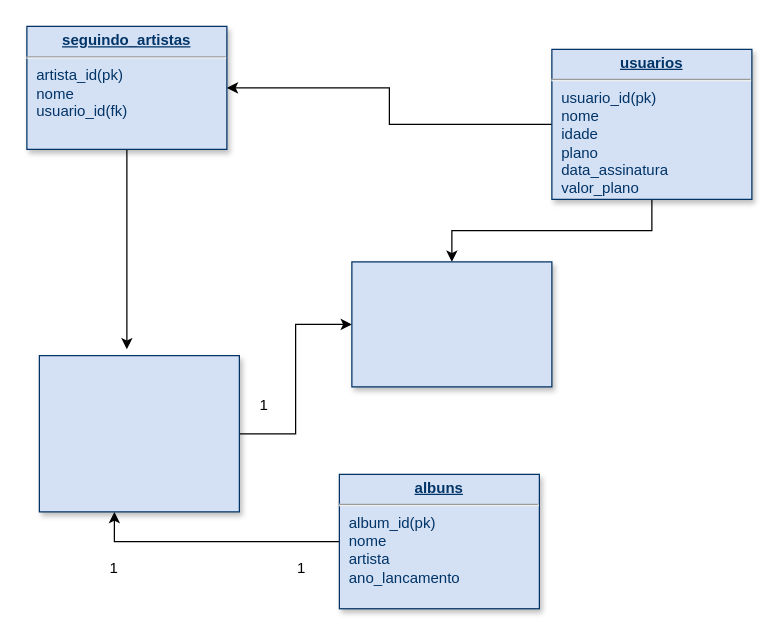
Image size: 781x640. Some labels were removed from this diagram. The shapes that lost their labels are listed below. From the top down, each one's centre as x and y in pixels, then its label:
the point at 452,326: historico_reproducoes usuario_id(fk) cancao_nome cancao_id(fk) data_reproducao
the point at 140,435: cancoes cancao_id(pk) nome duracao_segundos artista artista_id(fk) album
